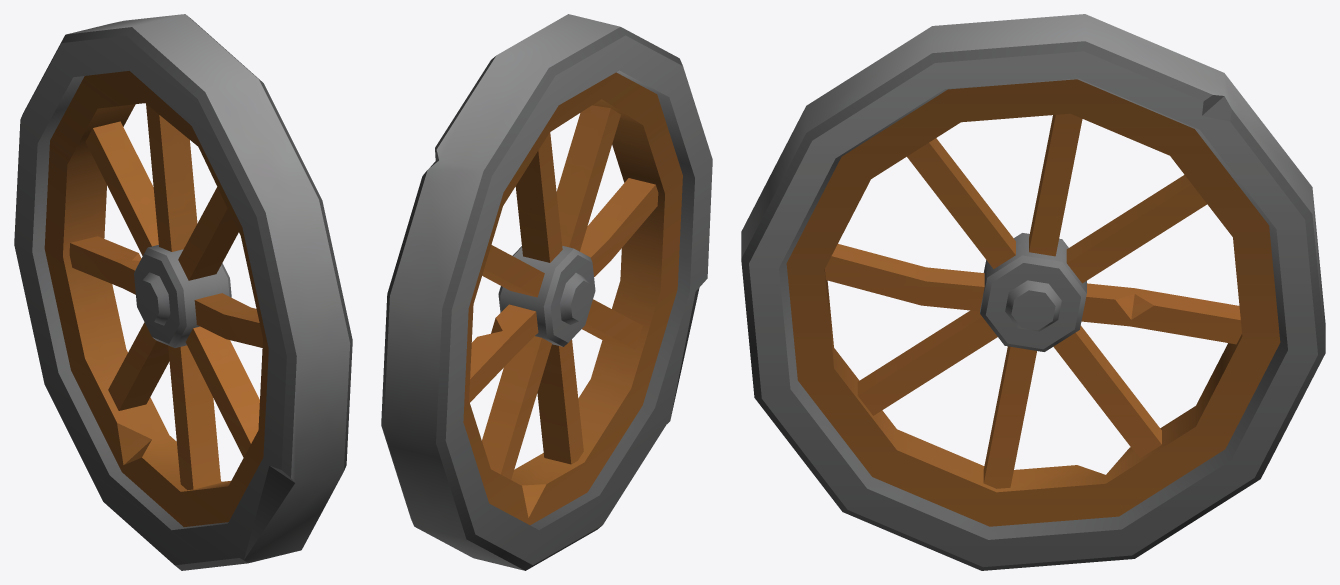
Rendered from Wheel_C.glb.
3 views of the same model, side by side, from view 1: azimuth 30°, elevation 25°; view 2: azimuth 150°, elevation 25°; view 3: azimuth 270°, elevation 25° (orthographic). The views are drawn at different scales.
Parts seen in each view (by area): view 1: Wheel_C; view 2: Wheel_C; view 3: Wheel_C.
Boxes of the visible parts, x1,y1,x2,y2 form: Wheel_C: [14, 14, 352, 570]; Wheel_C: [381, 14, 712, 570]; Wheel_C: [741, 14, 1325, 570].
Bounding box in the file's own units: 0.1375 × 0.95 × 0.95.
2 materials, 2 textured.
